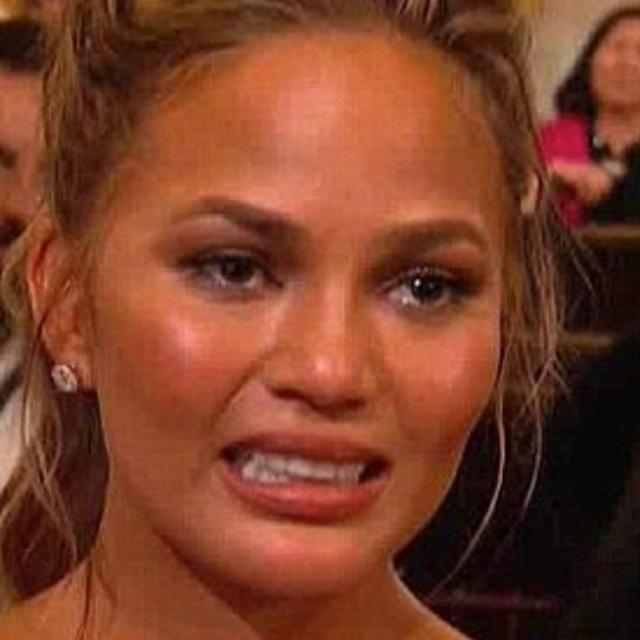Depress: (93, 46, 510, 603)
